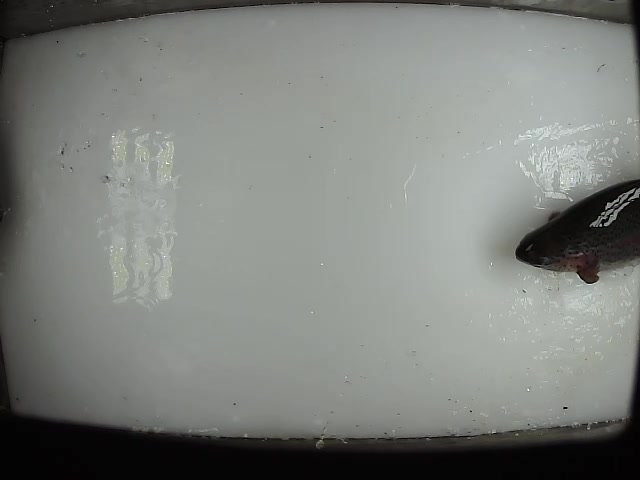fish: (514, 175, 640, 285)
